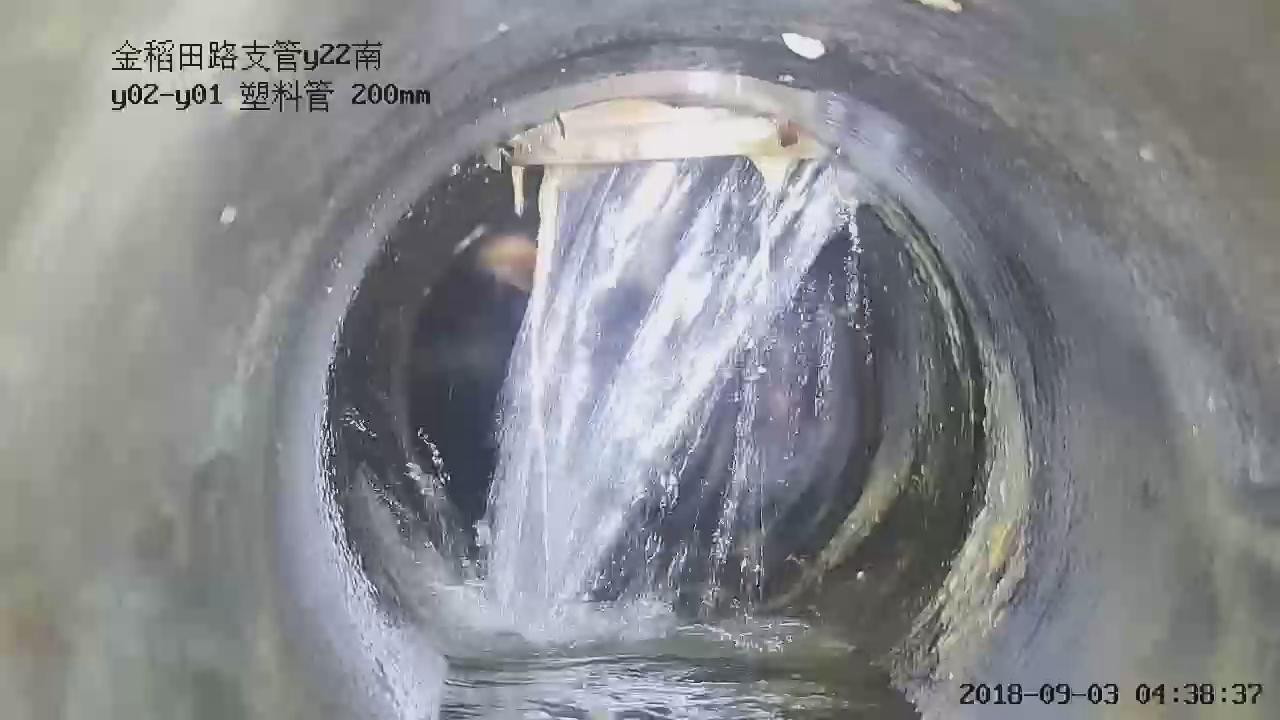ZGAJ: (499, 99, 816, 166)
